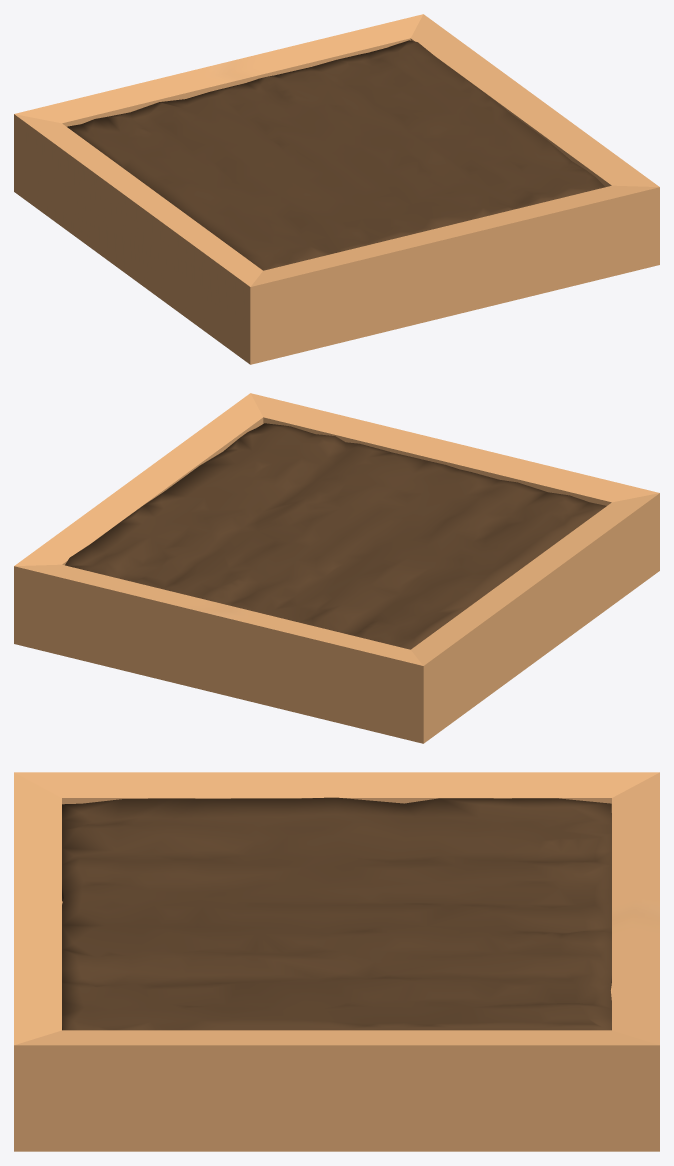
The model's file is planterbox.fbx.
The picture shows the model from 3 angles, top to bottom: view 1: azimuth 30°, elevation 25°; view 2: azimuth 150°, elevation 25°; view 3: azimuth 270°, elevation 25°; orthographic projection. The views are drawn at different scales.
Visible parts, largest first — view 1: Cube; view 2: Cube; view 3: Cube.
Part boxes in pixels (x1,y1,x2,y2): Cube: (14,14,659,364); Cube: (14,393,659,743); Cube: (14,772,659,1151).
Bounding box in the file's own units: 1095 × 199 × 1095.
